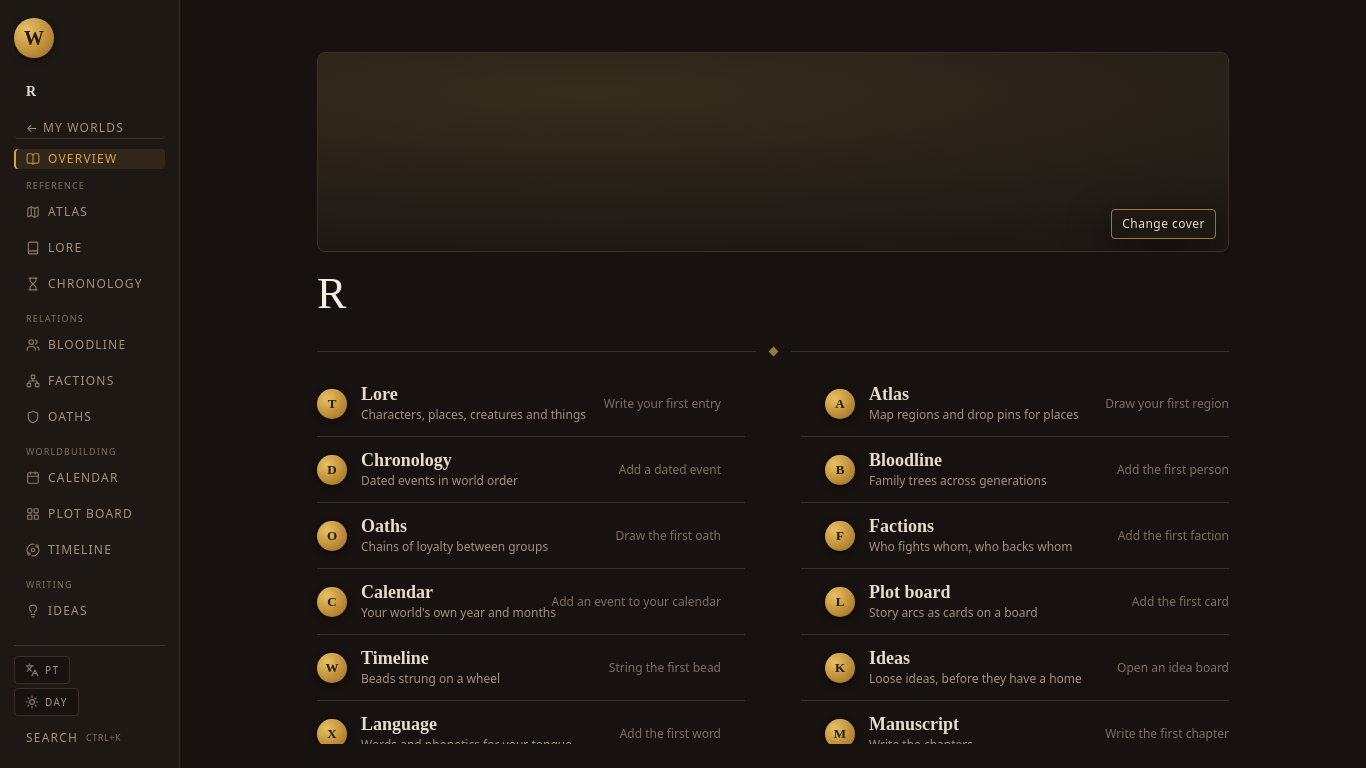
Scenario: workspace rail › switches the rail and pages to Portuguese
Click the button with aria-label "Switch to Portuguese" at (42, 670), box [14,656,70,684]
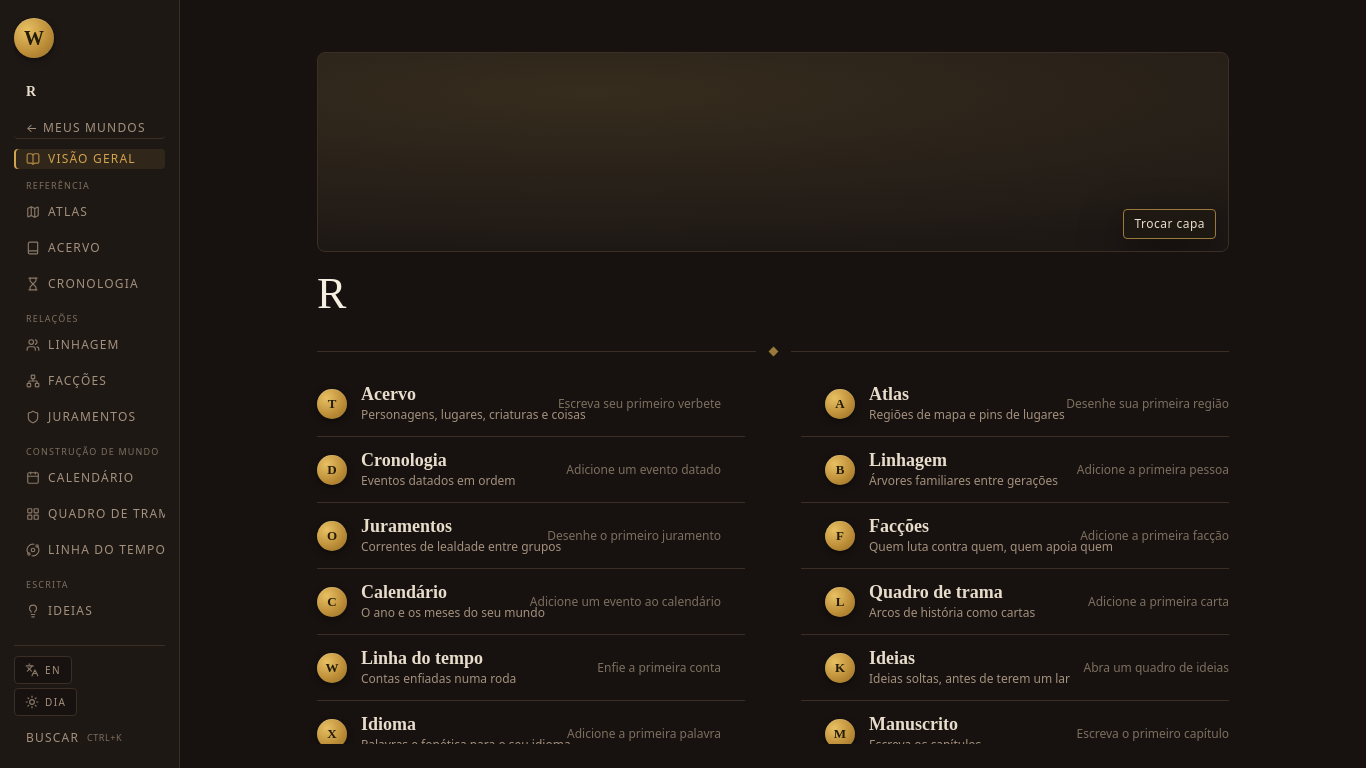
Result: the text "Referência" is shown at [26,179,90,192]
